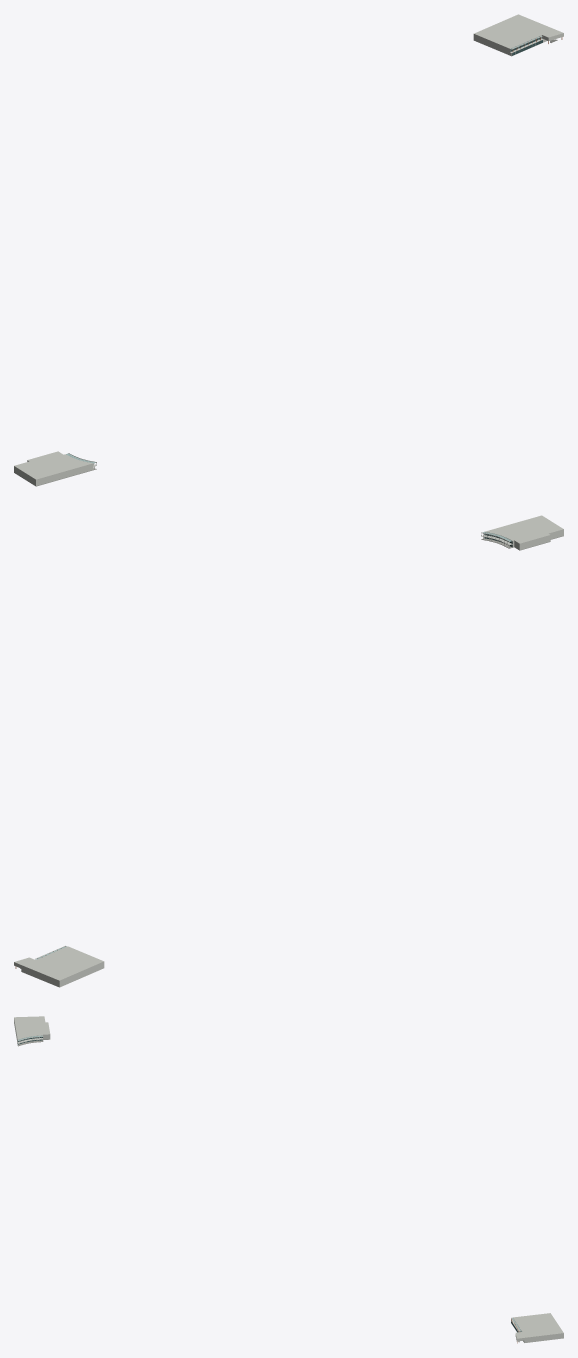
File: SEU_building_patch_v07.glb
3 views of the same model, one above another, from view 1: azimuth 30°, elevation 25°; view 2: azimuth 210°, elevation 25°; view 3: azimuth 270°, elevation 25° (orthographic). The views are drawn at different scales.
Parts seen in each view (by area): view 1: SEU_B_OSMWAY_630686661_V07__main_roof, SEU_B_OSMWAY_299961611_V07__roof; view 2: SEU_B_OSMWAY_630686661_V07__main_roof, SEU_B_OSMWAY_299961611_V07__roof; view 3: SEU_B_OSMWAY_630686661_V07__main_roof, SEU_B_OSMWAY_299961611_V07__roof.
Part boxes in pixels (bbox=[...]): SEU_B_OSMWAY_630686661_V07__main_roof: bbox=[474, 14, 554, 48]; SEU_B_OSMWAY_299961611_V07__roof: bbox=[14, 451, 93, 479]; SEU_B_OSMWAY_630686661_V07__main_roof: bbox=[23, 946, 103, 980]; SEU_B_OSMWAY_299961611_V07__roof: bbox=[484, 515, 563, 543]; SEU_B_OSMWAY_630686661_V07__main_roof: bbox=[512, 1313, 563, 1337]; SEU_B_OSMWAY_299961611_V07__roof: bbox=[14, 1016, 50, 1039].
Bounding box in the file's own units: 1220 × 9.72 × 879.
